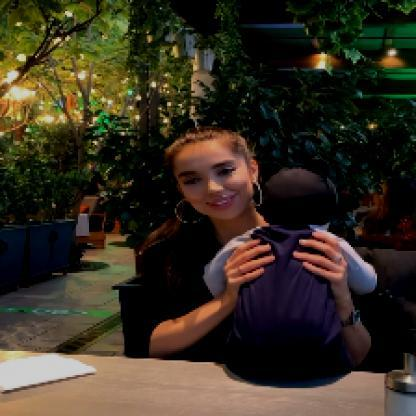child: (203, 157, 380, 378)
